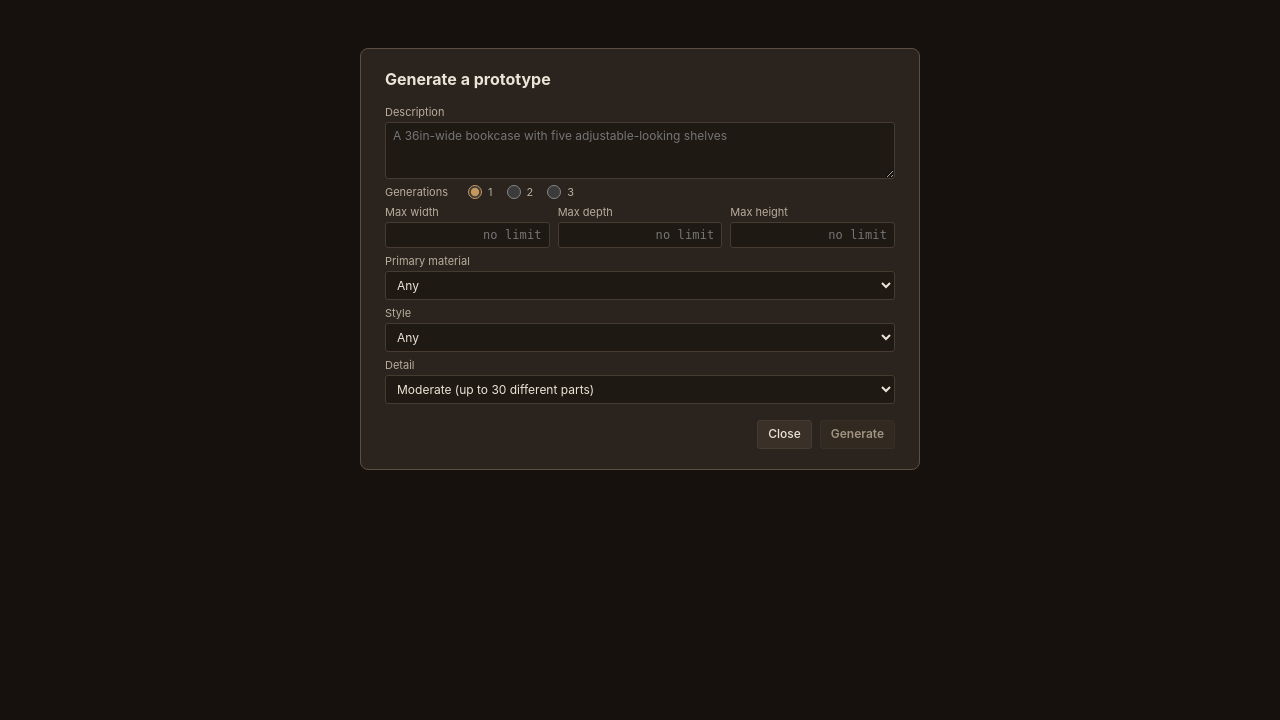
Test case: GenerateDialog › blocks an unparseable or non-positive max size: 0
The image size is (1280, 720).
In the text box labelled "Description": (640, 150) [385, 122, 895, 179], type "a box"
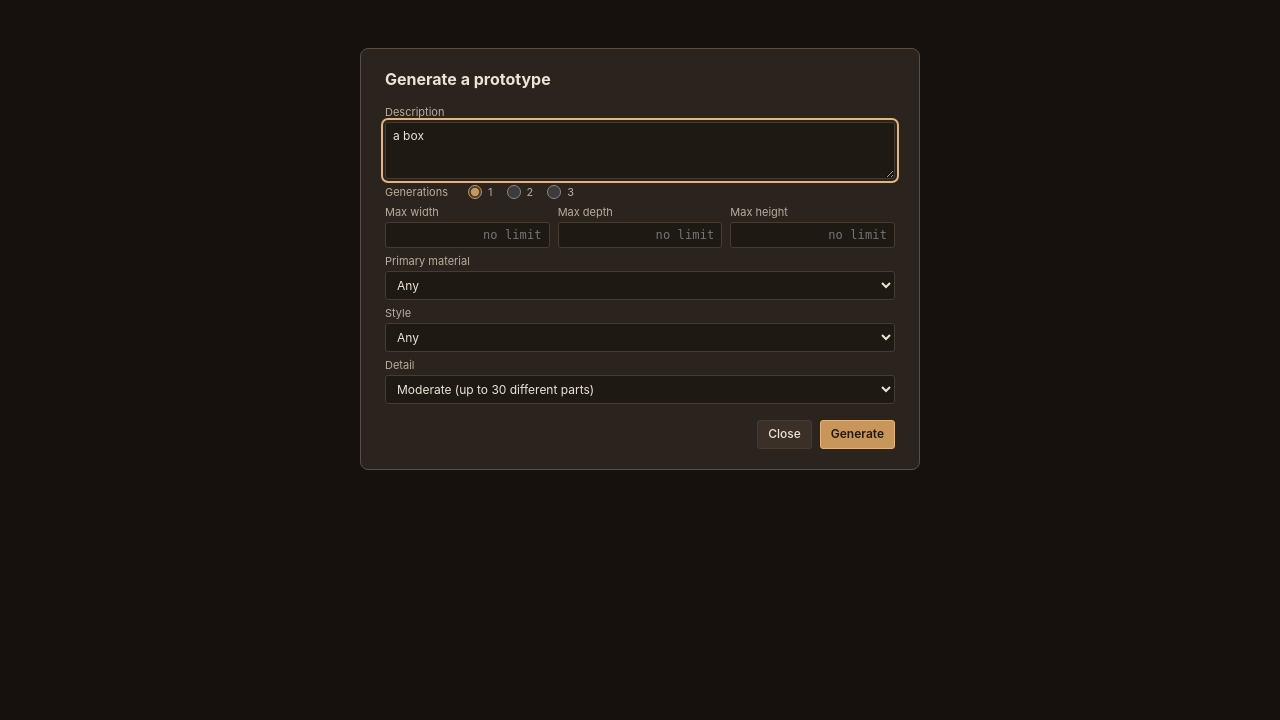
In the field labelled "Max depth": (640, 235) [558, 222, 722, 248], type "0"
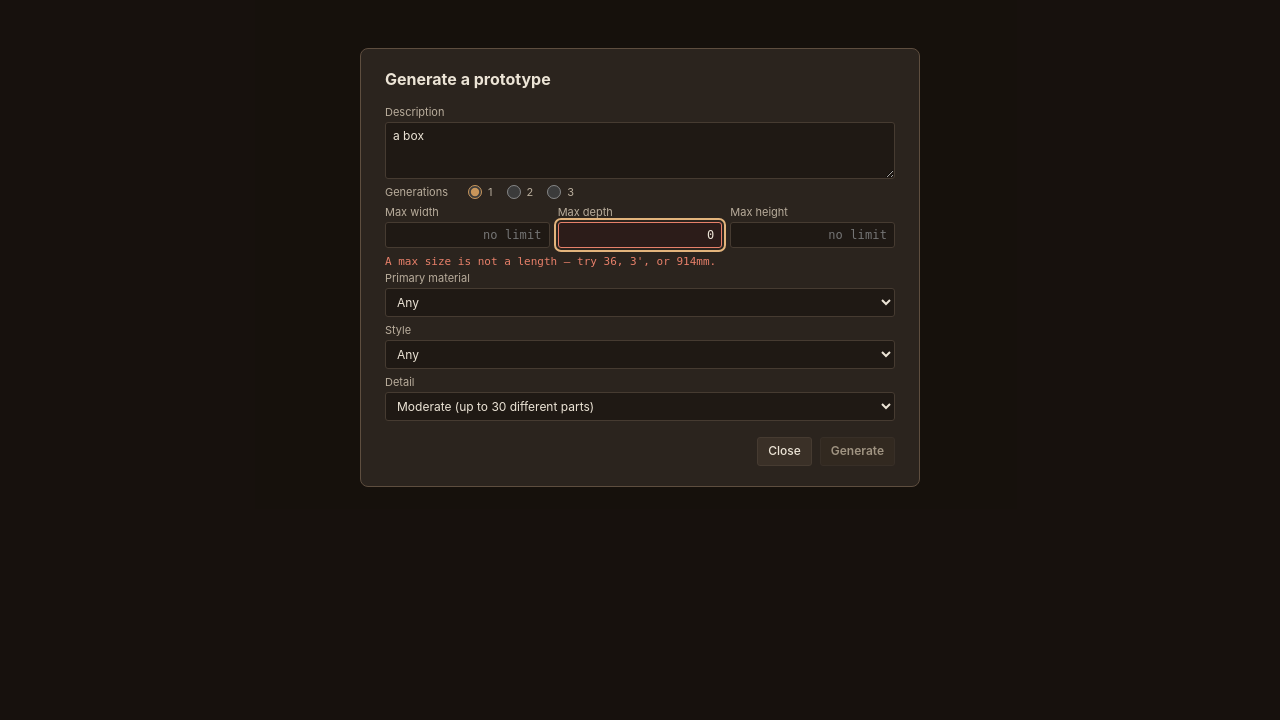
Result: the button "Generate" is disabled at [820, 437, 895, 466]
Result: the text "A max size is not a length — try 36, 3', or 914mm." is shown at [385, 255, 716, 268]
